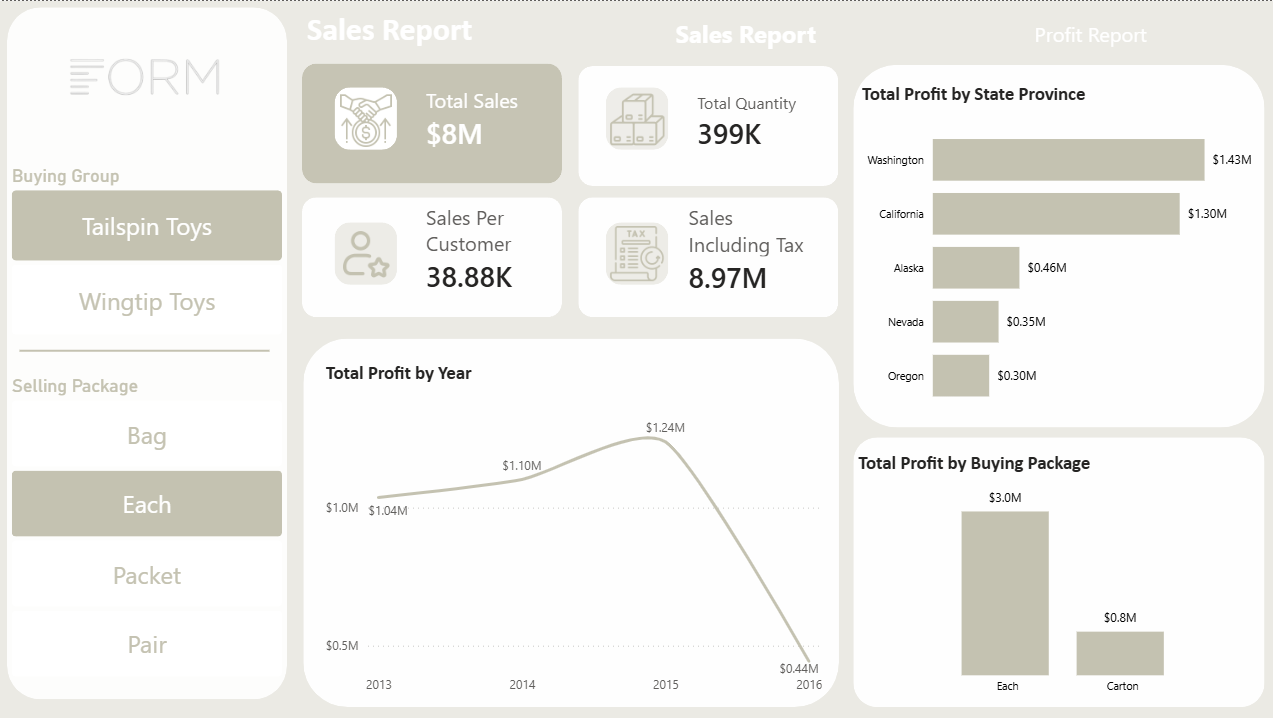

This screenshot's page, from the dashboard's own definition file:
{"tool":"powerbi","page":{"name":"Sales Report","canvas":[1280,720],"ordinal":0},"visuals":[{"type":"shape","box":[10,6.7,280,692.2],"z":0},{"type":"shape","box":[305.7,337.1,535.7,368.6],"z":1000},{"type":"shape","box":[305.5,62.7,260,120],"z":2000},{"type":"shape","box":[305.5,196.4,260,120],"z":3000},{"type":"shape","box":[581.8,196.4,260,120],"z":4000},{"type":"shape","box":[581.8,64.5,260,120],"z":5000},{"type":"shape","box":[855.7,435.7,411.4,270],"z":6000},{"type":"shape","box":[855.7,64.3,411.4,362.9],"z":7000},{"type":"textbox","box":[305,3.3,190,53.3],"z":8000},{"type":"image","box":[0,6.7,295,153.3],"z":9000},{"type":"cardVisual","title":"Total Sales","fields":{"Data":["FactSale.Total Sales"]},"box":[400,58.2,158.2,120.9],"z":10000},{"type":"shape","box":[337.3,86.4,62.7,62.7],"z":11000},{"type":"cardVisual","title":"Total Sales","fields":{"Data":["Sum(FactSale.Quantity)"]},"box":[670.9,58.2,158.2,120.9],"z":12000},{"type":"shape","box":[608.2,86.4,62.7,62.7],"z":13000},{"type":"cardVisual","title":"Total Sales","fields":{"Data":["FactSale.Sales Per Customer"]},"box":[400,190,165.7,132.9],"z":14000},{"type":"shape","box":[337.3,220.9,62.7,62.7],"z":15000},{"type":"cardVisual","title":"Total Sales","fields":{"Data":["Sum(FactSale.Total Including Tax)"]},"box":[663,183,178,140],"z":16000},{"type":"shape","box":[608.2,220.9,62.7,62.7],"z":17000},{"type":"image","box":[607,225,65,55],"z":18000},{"type":"lineChart","title":"Total Profit by Year","fields":{"Category":["DimDate.Date.Variation.Date Hierarchy.Year","DimDate.Date.Variation.Date Hierarchy.Quarter","DimDate.Date.Variation.Date Hierarchy.Month","DimDate.Date.Variation.Date Hierarchy.Day"],"Y":["Sum(FactSale.Profit)"]},"box":[323.8,360,506.2,342.5],"z":19000},{"type":"clusteredColumnChart","title":"Total Profit by Buying Package","fields":{"Y":["Sum(FactSale.Profit)"],"Category":["DimStockItem.Buying Package"]},"box":[855.8,450,424.2,252.5],"z":20000},{"type":"clusteredBarChart","title":"Total Profit by State Province","fields":{"Category":["DimCity.State Province"],"Y":["Sum(FactSale.Profit)"]},"box":[860,81.2,401.2,342.5],"z":21000},{"type":"image","box":[334.2,225,68.3,54.2],"z":22000},{"type":"image","box":[335,92,68,54],"z":23000},{"type":"image","box":[607.5,90.8,65.8,54.2],"z":24000},{"type":"shape","box":[23,206,250,287],"z":25000},{"type":"advancedSlicerVisual","fields":{"Values":["DimCustomer.Buying Group"]},"box":[10,164,280,176],"z":26000},{"type":"advancedSlicerVisual","fields":{"Values":["DimStockItem.Selling Package"]},"box":[10,373.8,280,310],"z":27000},{"type":"pageNavigator","box":[581.4,7.1,680,50],"z":28000}]}

Visuals, with their boxes in screenshot pixels (x1, y1, x2, y2), scaled from the page's 1280x720 canvas onto the 1273x718 screenshot:
shape: 10 7 288 697
shape: 304 336 837 704
shape: 304 63 562 182
shape: 304 196 562 316
shape: 579 196 837 316
shape: 579 64 837 184
shape: 851 434 1260 704
shape: 851 64 1260 426
textbox: 303 3 492 56
image: 0 7 293 160
"Total Sales" cardVisual: 398 58 555 179
shape: 335 86 398 149
"Total Sales" cardVisual: 667 58 825 179
shape: 605 86 667 149
"Total Sales" cardVisual: 398 189 563 322
shape: 335 220 398 283
"Total Sales" cardVisual: 659 182 836 322
shape: 605 220 667 283
image: 604 224 668 279
"Total Profit by Year" lineChart: 322 359 825 701
"Total Profit by Buying Package" clusteredColumnChart: 851 449 1272 701
"Total Profit by State Province" clusteredBarChart: 855 81 1254 423
image: 332 224 400 278
image: 333 92 401 146
image: 604 91 670 145
shape: 23 205 272 492
advancedSlicerVisual - DimCustomer.Buying Group: 10 164 288 339
advancedSlicerVisual - DimStockItem.Selling Package: 10 373 288 682
pageNavigator: 578 7 1255 57
